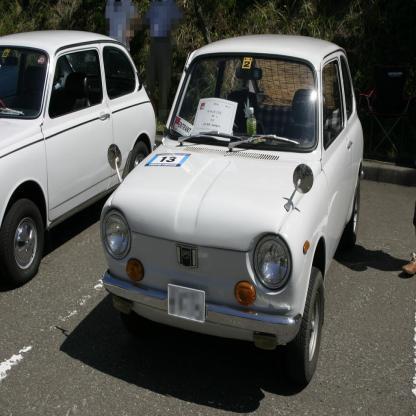Car: (101, 35, 365, 385), (1, 32, 157, 286)
